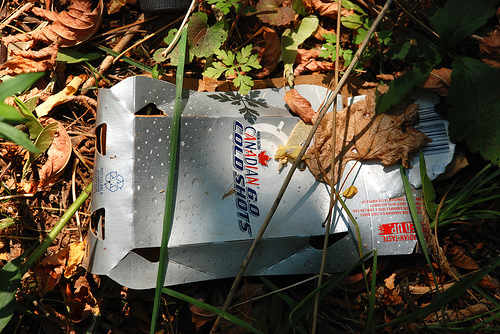litter: (87, 73, 457, 291)
